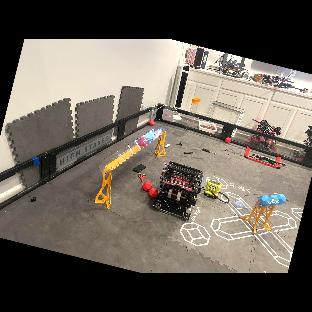Robot: (150, 161, 205, 224), (247, 117, 281, 154), (292, 125, 312, 165)
V5_RED: (146, 184, 160, 200), (140, 178, 154, 192), (224, 136, 233, 145), (148, 118, 156, 127)
blueingoal: (274, 190, 291, 207), (257, 192, 271, 207), (268, 192, 279, 205), (144, 133, 152, 141), (148, 131, 156, 139)
redingoal: (138, 136, 149, 146)
